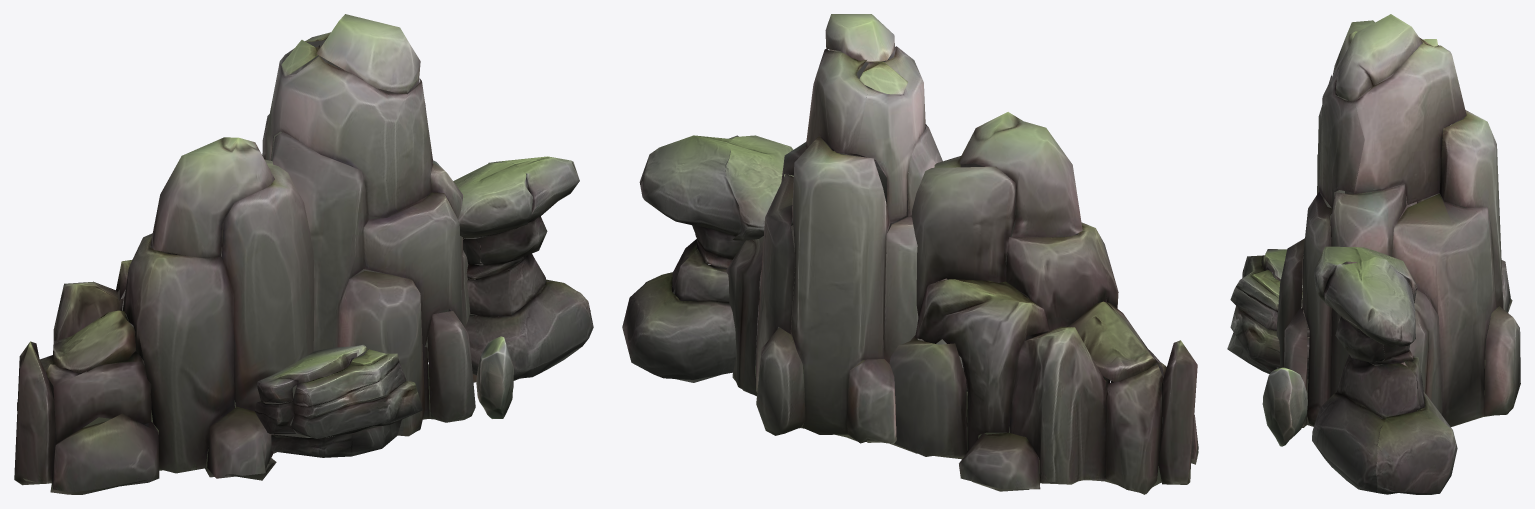
Rendered from cliff-b.glb.
3 renders of one model, left to right at view 1: azimuth 30°, elevation 25°; view 2: azimuth 150°, elevation 25°; view 3: azimuth 270°, elevation 25°, orthographic.
Parts seen in each view (by area): view 1: cliff-b; view 2: cliff-b; view 3: cliff-b.
Part boxes in pixels (<box>): cliff-b: <box>14,14,593,494</box>; cliff-b: <box>622,14,1198,494</box>; cliff-b: <box>1227,14,1520,494</box>.
Bounding box in the file's own units: 13.15 × 8.55 × 5.94.
3 materials, 3 textured.
